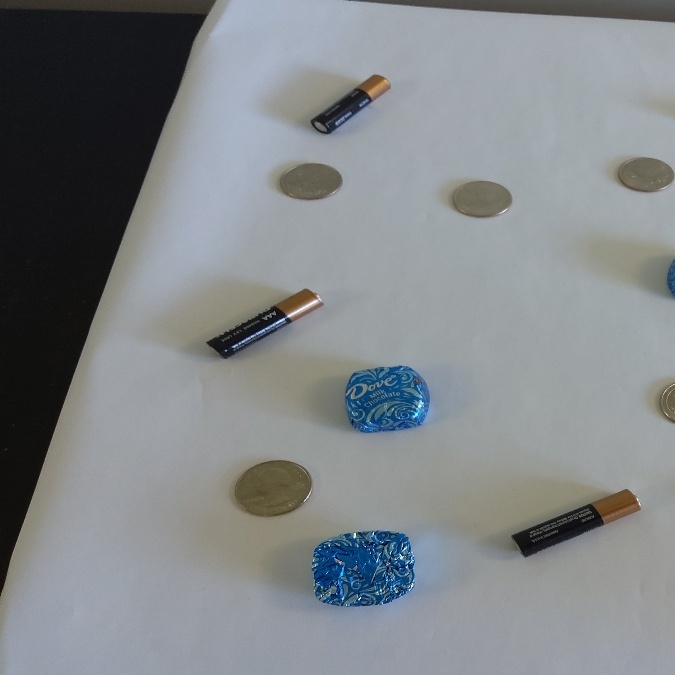battery: (498, 479, 652, 560), (207, 278, 326, 359), (304, 66, 396, 135)
chocolate_blue: (317, 528, 422, 614), (340, 362, 438, 439)
coin_quarter: (230, 449, 320, 526), (272, 154, 346, 208), (448, 174, 522, 220)
